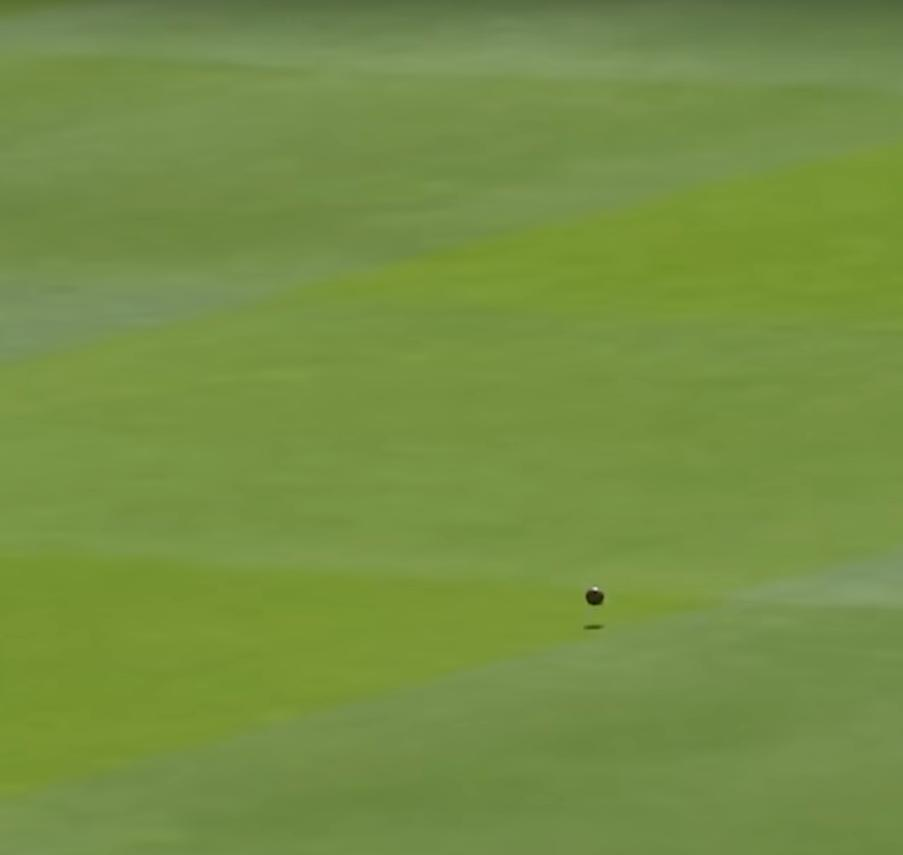Cricket-Ball: (578, 582, 614, 612)
